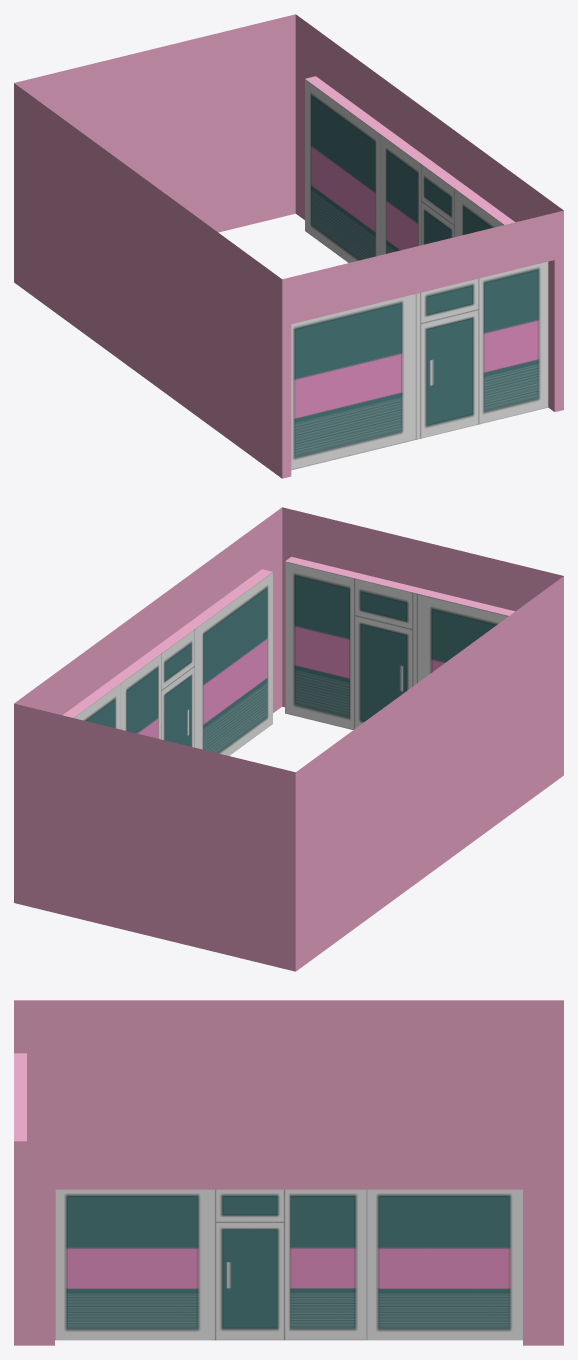
The model's file is Town_Bld-sm_BaseA_Corner.FBX.
3 renders of one model, top to bottom at view 1: azimuth 30°, elevation 25°; view 2: azimuth 150°, elevation 25°; view 3: azimuth 270°, elevation 25°, orthographic. The views are drawn at different scales.
Parts seen in each view (by area): view 1: Town_Bld-sm_BaseA_Corner; view 2: Town_Bld-sm_BaseA_Corner; view 3: Town_Bld-sm_BaseA_Corner.
Part boxes in pixels (<box>): Town_Bld-sm_BaseA_Corner: <box>14,14,563,478</box>; Town_Bld-sm_BaseA_Corner: <box>14,507,563,971</box>; Town_Bld-sm_BaseA_Corner: <box>14,1000,563,1345</box>.
Bounding box in the file's own units: 301 × 204 × 497.
